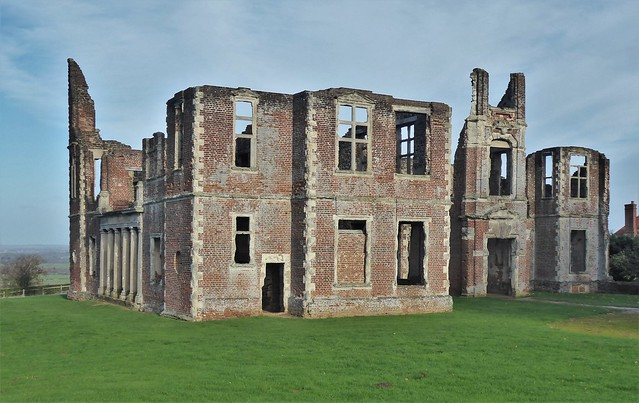medium: (70, 51, 613, 326)
